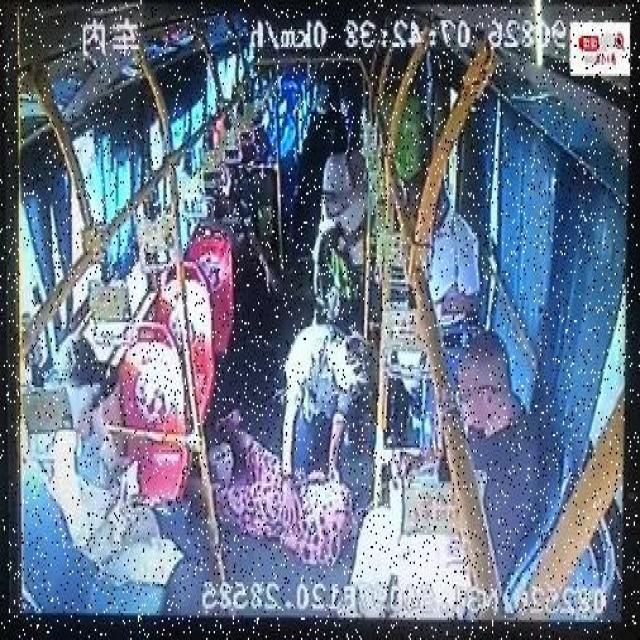fall: (186, 446, 368, 554)
